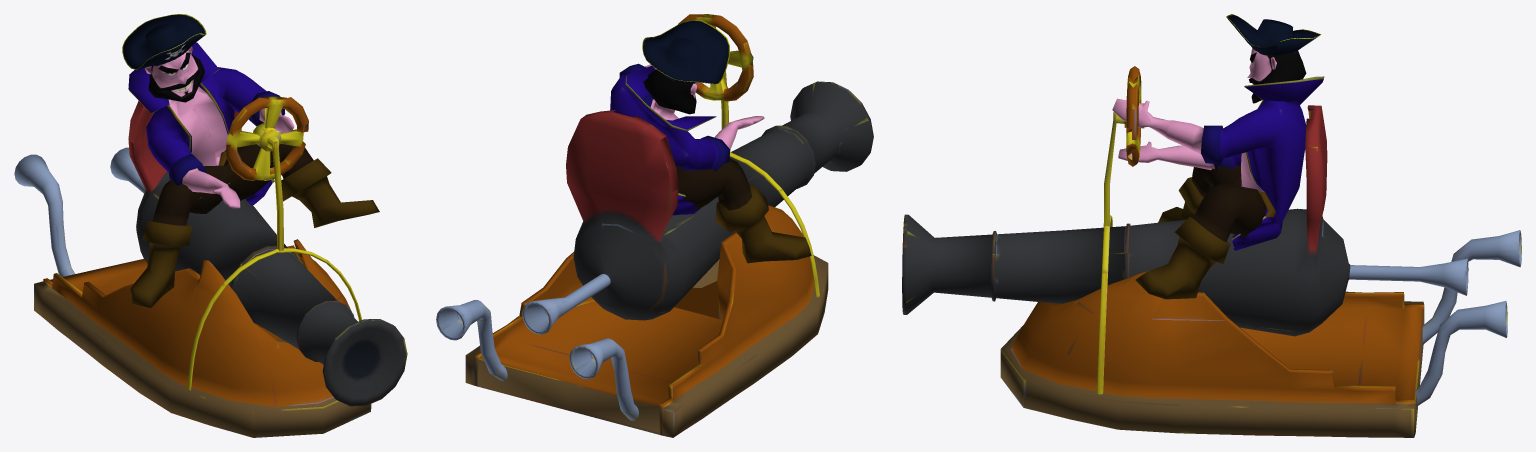
File: pirataGiroDer_000179.obj
3 views of the same model, side by side, from view 1: azimuth 30°, elevation 25°; view 2: azimuth 150°, elevation 25°; view 3: azimuth 270°, elevation 25° (orthographic). The views are drawn at different scales.
Visible parts, largest first — view 1: carro_pirata, Pirata_PirataH_Pirata_PirataH.001; view 2: carro_pirata, Pirata_PirataH_Pirata_PirataH.001; view 3: carro_pirata, Pirata_PirataH_Pirata_PirataH.001.
Part boxes in pixels (box(x1,y1,x2,y2)): carro_pirata: box(14, 96, 407, 437); Pirata_PirataH_Pirata_PirataH.001: box(122, 14, 379, 307); carro_pirata: box(436, 14, 873, 437); Pirata_PirataH_Pirata_PirataH.001: box(610, 19, 811, 263); carro_pirata: box(902, 66, 1521, 437); Pirata_PirataH_Pirata_PirataH.001: box(1112, 14, 1324, 299).
Size of the model in its own units: 5.65 by 7.45 by 12.1.
2 materials, 2 textured.
